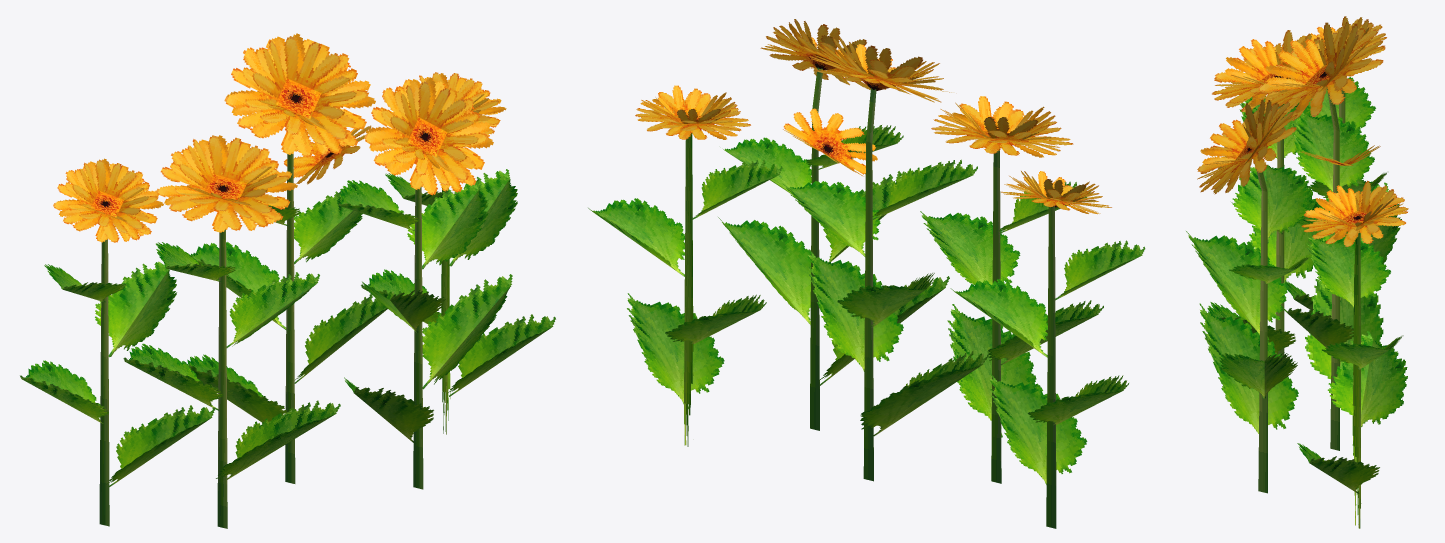
The model's file is yellow_flower2.obj.
3 renders of one model, left to right at view 1: azimuth 30°, elevation 25°; view 2: azimuth 150°, elevation 25°; view 3: azimuth 270°, elevation 25°, orthographic. The views are drawn at different scales.
Parts seen in each view (by area): view 1: obj7; view 2: obj7; view 3: obj7.
Part boxes in pixels (x1,y1,x2,y2): obj7: (20,33,555,528); obj7: (588,19,1145,528); obj7: (1186,16,1408,528).
Bounding box in the file's own units: 22.33 × 18.4 × 9.92.
Materials: 3 (3 with a texture image).
